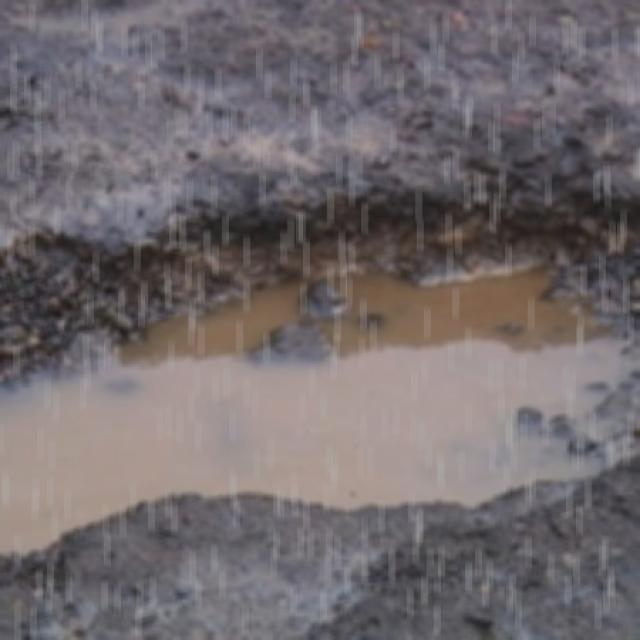road-pothole: (0, 163, 635, 569)
